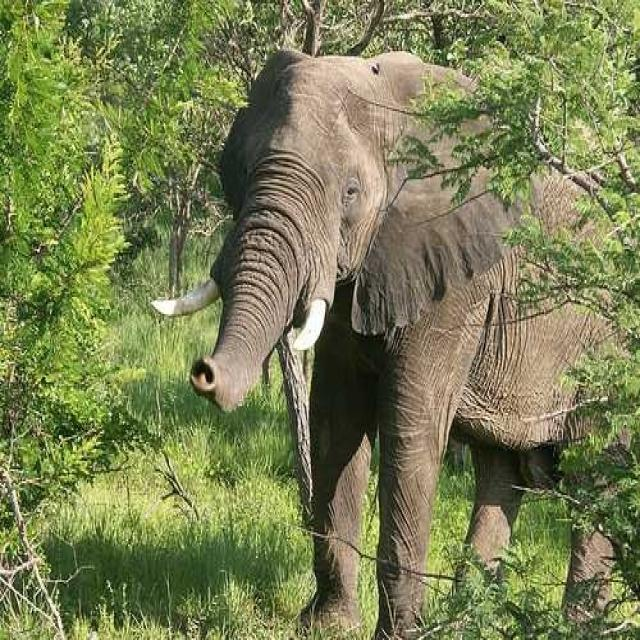Elephant: (150, 46, 637, 638)
